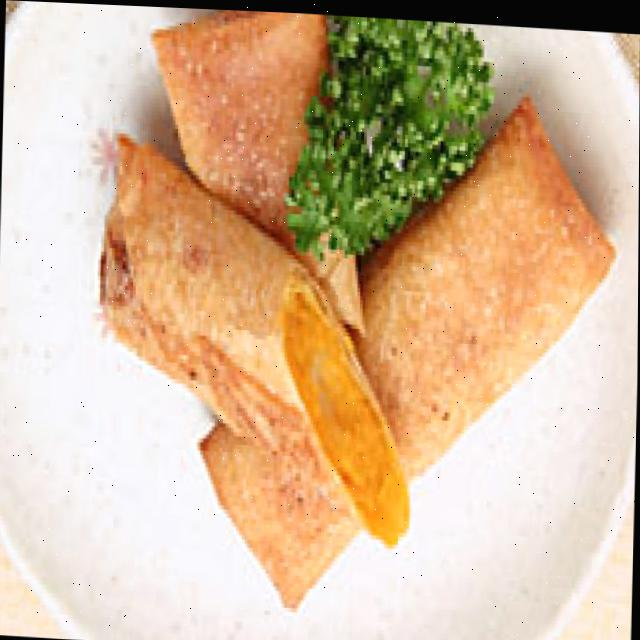鸡蛋料理: (61, 2, 625, 640)
